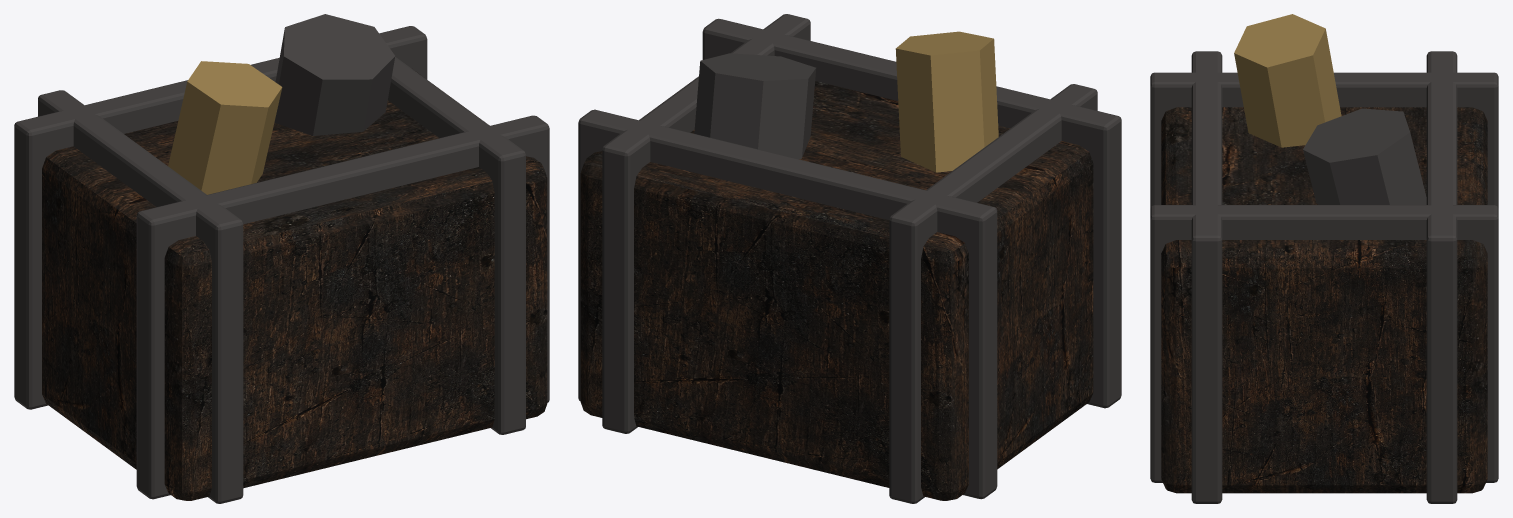
File: room_material_crate.glb
The picture shows the model from 3 angles, left to right: view 1: azimuth 30°, elevation 25°; view 2: azimuth 150°, elevation 25°; view 3: azimuth 270°, elevation 25°; orthographic projection. The views are drawn at different scales.
Parts seen in each view (by area): view 1: room_material_crate; view 2: room_material_crate; view 3: room_material_crate.
Part boxes in pixels (box(x1,y1,x2,y2)): room_material_crate: box(14, 14, 549, 503); room_material_crate: box(578, 14, 1121, 503); room_material_crate: box(1150, 14, 1498, 503).
Bounding box in the file's own units: 1.02 × 0.8764 × 0.8.
Materials: 3 (1 with a texture image).
